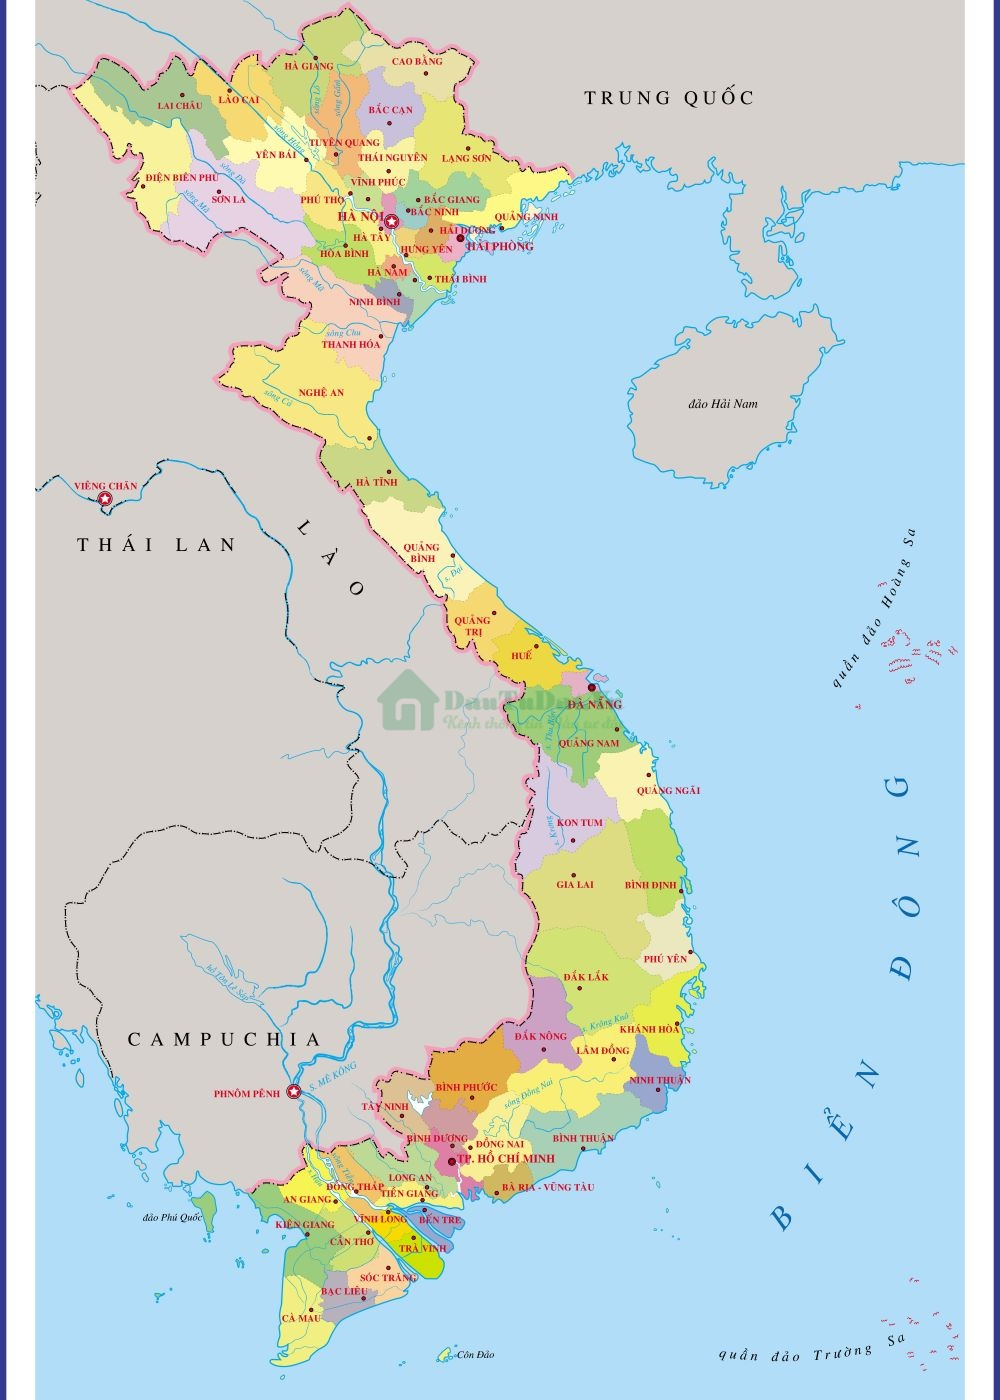Island: (685, 1278, 962, 1400), (811, 521, 960, 708)
